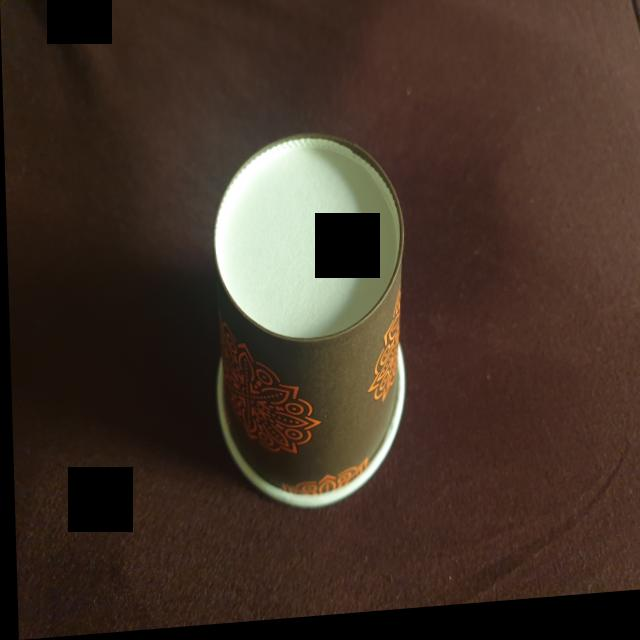cups: (196, 118, 419, 521)
